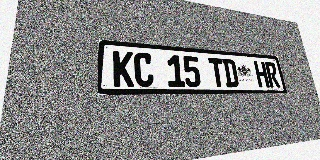1: (166, 54, 185, 87)
5: (183, 56, 202, 87)
C: (134, 52, 154, 87)
D: (222, 59, 239, 87)
H: (253, 61, 270, 87)
K: (113, 51, 134, 87)
R: (265, 62, 281, 88)
T: (208, 58, 226, 87)
